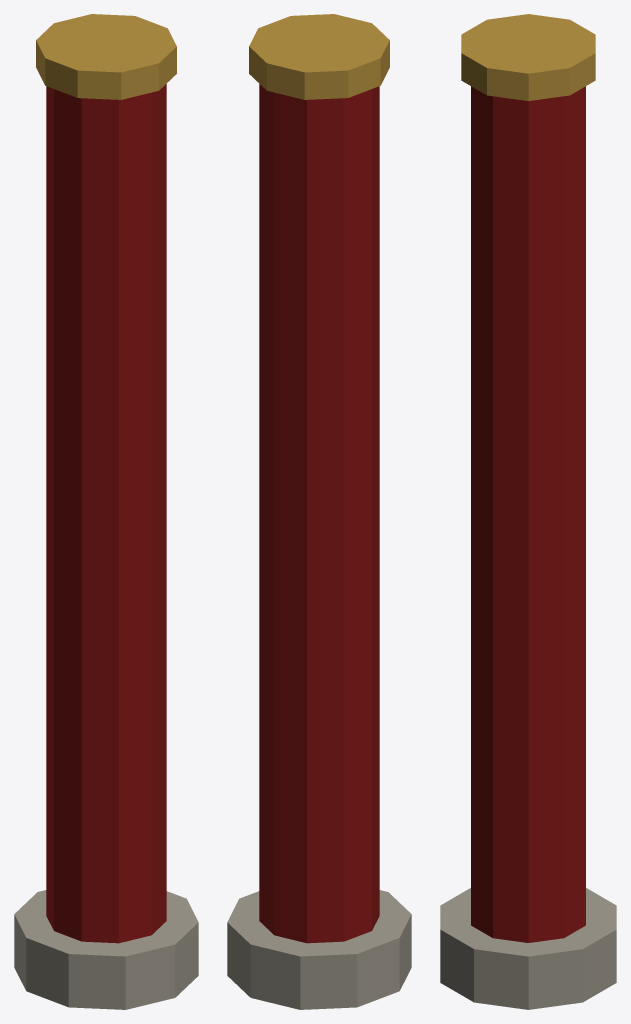
The model's file is red-pillar.glb.
The picture shows the model from 3 angles, left to right: view 1: azimuth 30°, elevation 25°; view 2: azimuth 150°, elevation 25°; view 3: azimuth 270°, elevation 25°; orthographic projection.
Parts seen in each view (by area): view 1: red-pillar; view 2: red-pillar; view 3: red-pillar.
Part boxes in pixels (bbox=[...]): red-pillar: bbox=[14, 14, 198, 1009]; red-pillar: bbox=[227, 14, 411, 1009]; red-pillar: bbox=[440, 14, 616, 1009].
Bounding box in the file's own units: 1.1 × 6.08 × 1.05.
